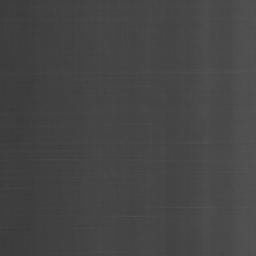Waist folding: (104, 68, 256, 78), (160, 205, 256, 210), (183, 139, 232, 146), (130, 158, 175, 164), (113, 213, 157, 219), (47, 157, 79, 162), (218, 19, 256, 21)
